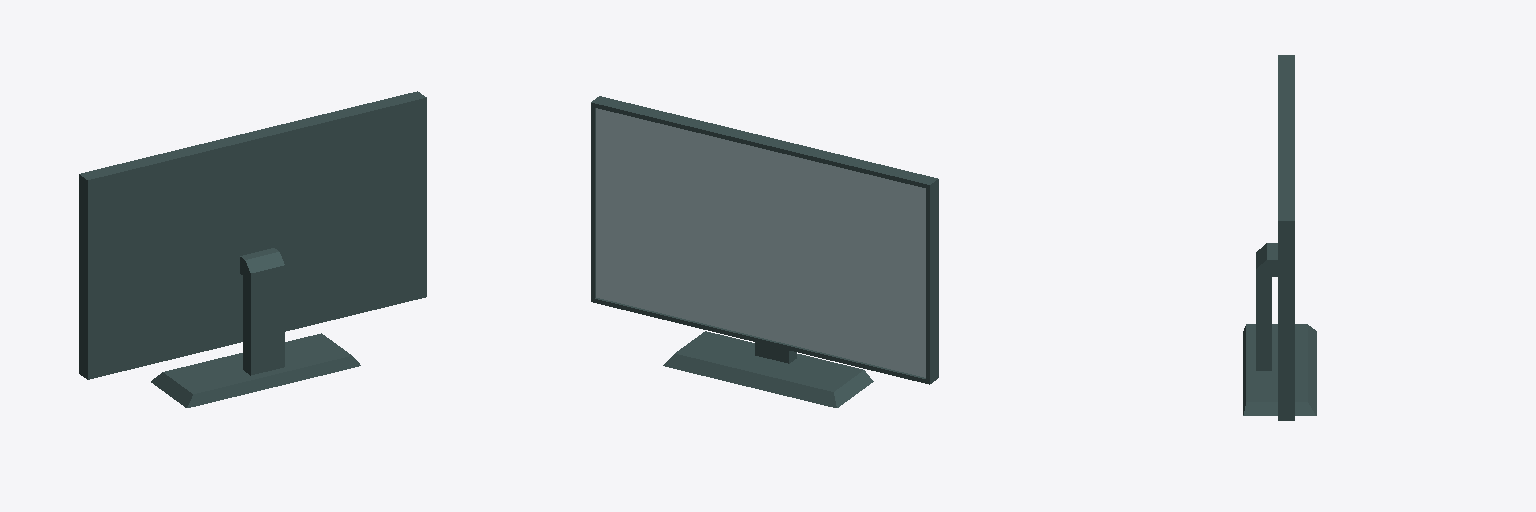
File: televisionModern.obj
The picture shows the model from 3 angles: view 1: azimuth 30°, elevation 25°; view 2: azimuth 150°, elevation 25°; view 3: azimuth 270°, elevation 25°; orthographic projection.
Visible parts, largest first — view 1: televisionModern; view 2: televisionModern; view 3: televisionModern.
Part boxes in pixels (left/top/right/bottom): televisionModern: left=79, top=91, right=426, bottom=407; televisionModern: left=591, top=96, right=938, bottom=407; televisionModern: left=1243, top=55, right=1316, bottom=420.
Bounding box in the file's own units: 0.6848 × 0.4548 × 0.1284.